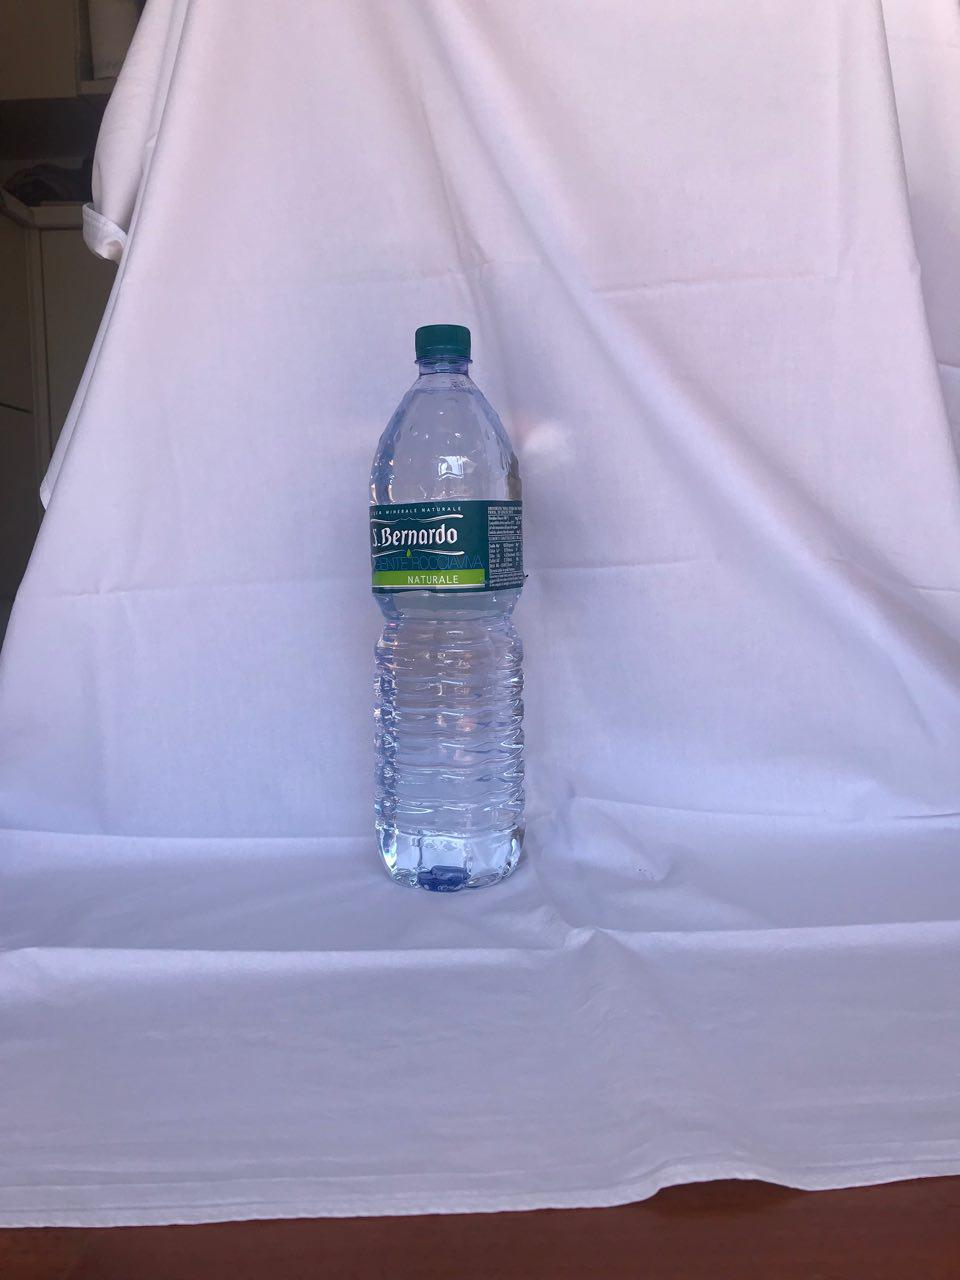san_bernardo: (367, 322, 527, 894)
